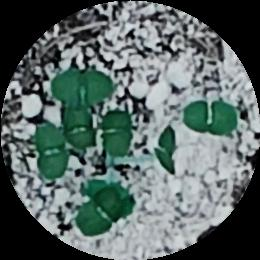Basil: (181, 96, 244, 137), (78, 186, 126, 232), (53, 72, 114, 102), (34, 128, 67, 175), (64, 106, 94, 147), (105, 112, 128, 157), (156, 127, 180, 167)
